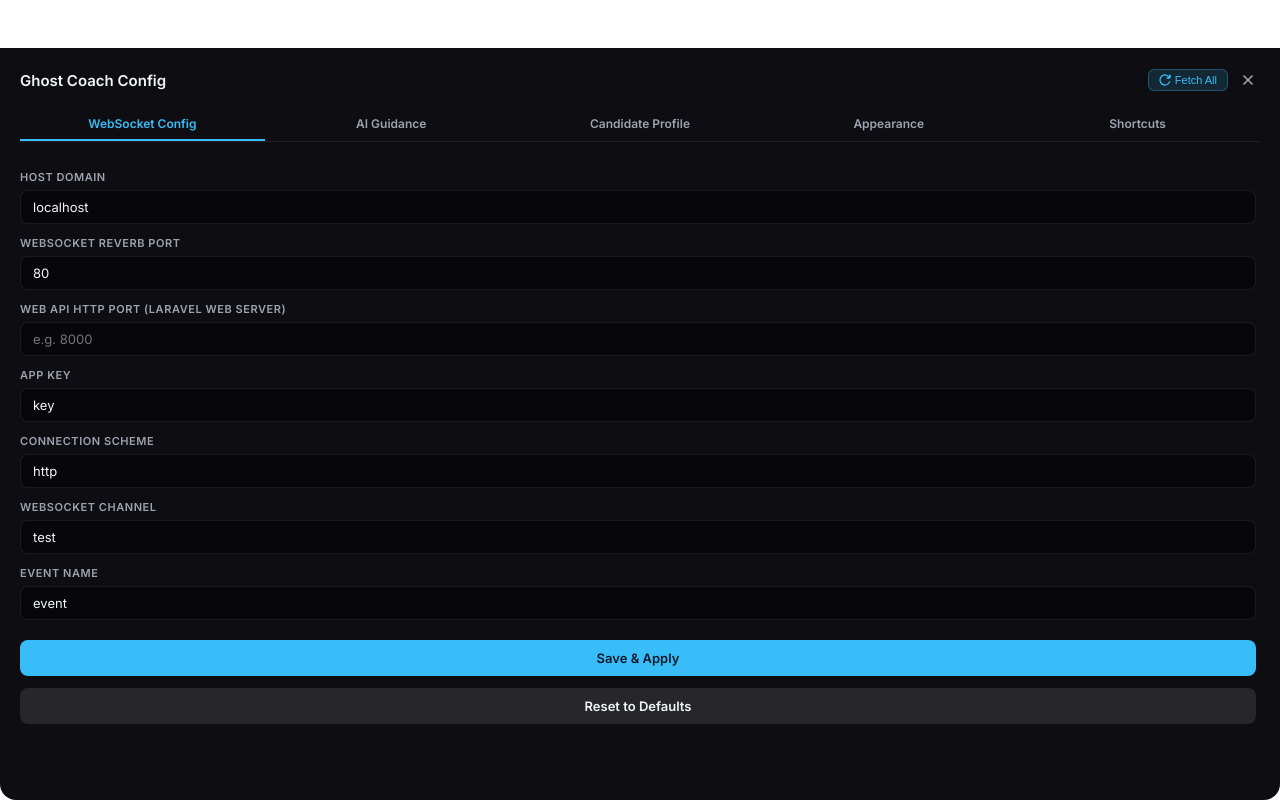
Test: SettingsOverlay.vue › renders correctly and switches tabs when clicked
The image size is (1280, 800).
Expected: the heading with class "settings-title" reads "Ghost Coach Config", [20,70,166,90]
Expected: the field below "Host Domain" holds "localhost", [20,190,1256,224]
# Click on AI Guidance tab (2nd button)
Click the button with class "tab-btn" showing "AI Guidance": click(391, 124) [269,108,514,141]
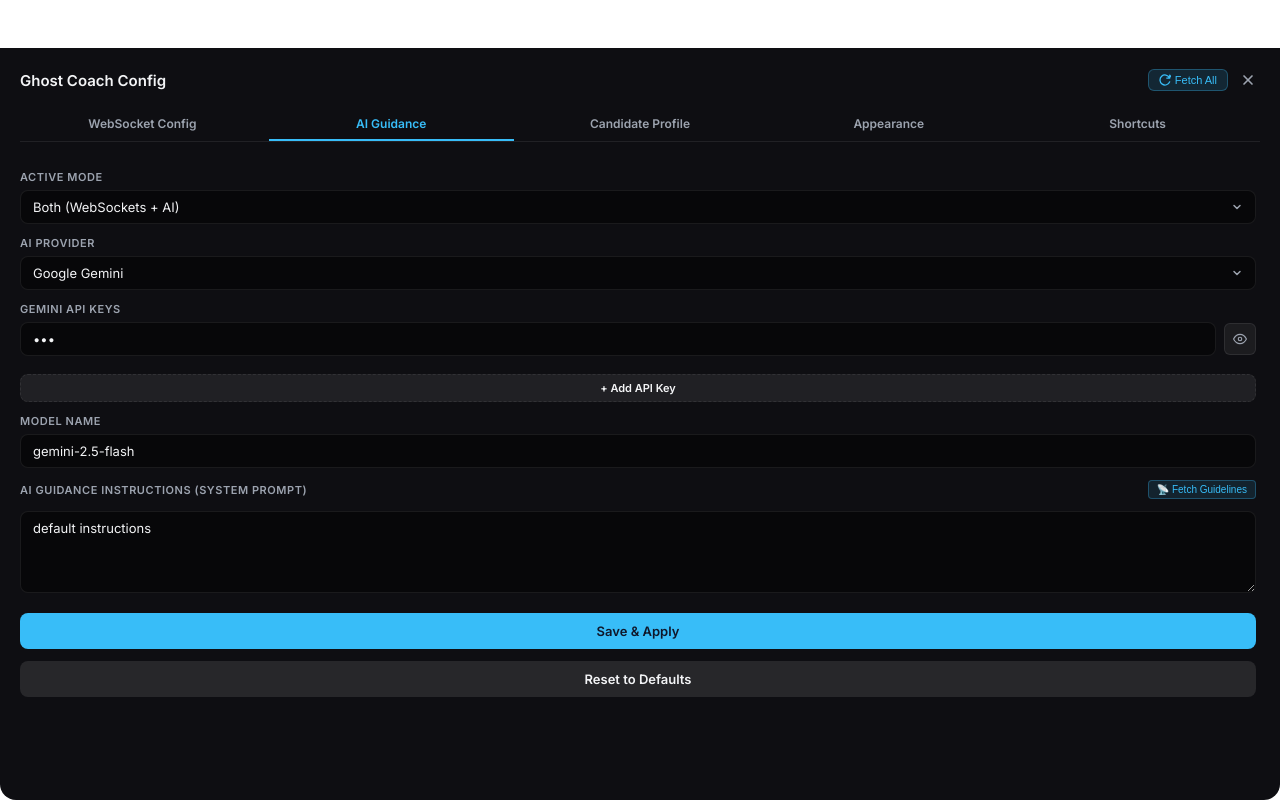
Result: the dropdown with class "form-select" below "Active Mode" shows "Both (WebSockets + AI)" at [20,190,1256,224]
# Click on Candidate Profile tab (3rd button)
Click the button with class "tab-btn" showing "Candidate Profile": click(640, 124) [518,108,762,141]
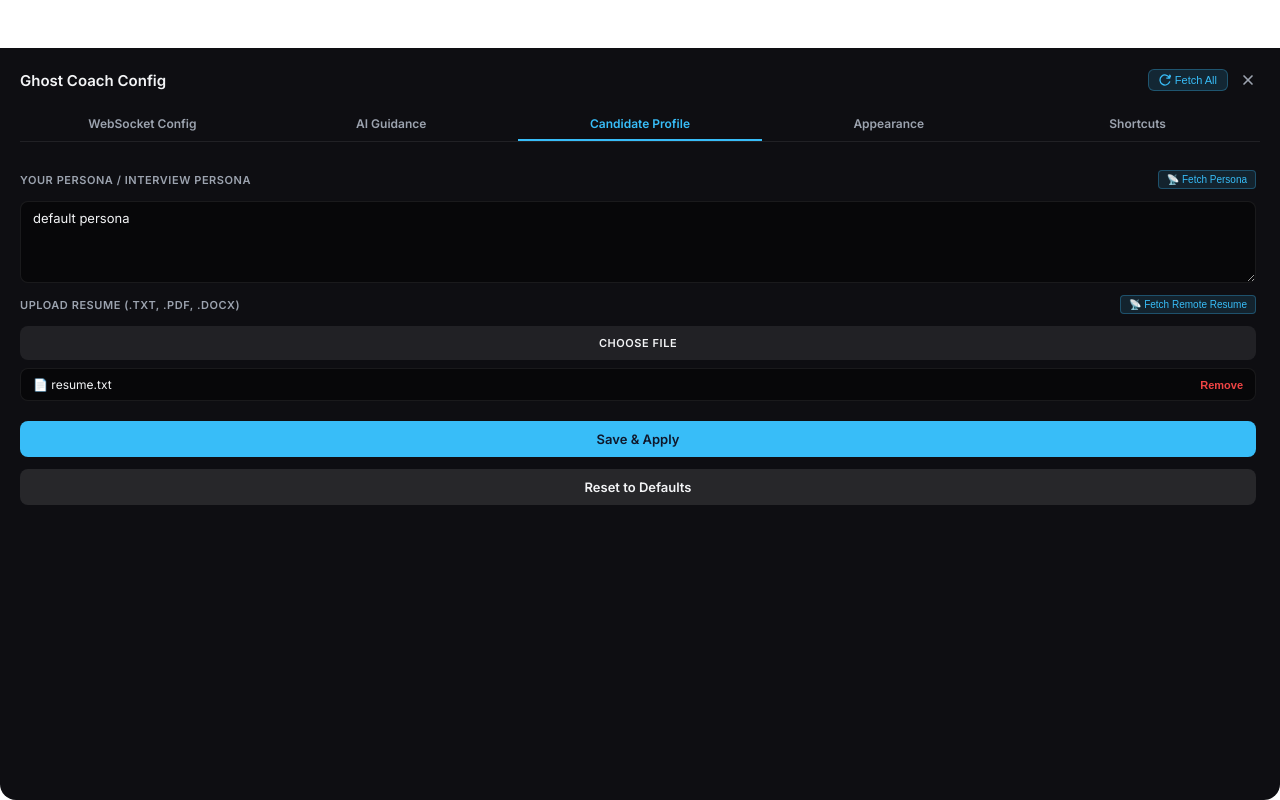
Result: the text box with class "form-textarea" holds "default persona" at [20,201,1256,283]
